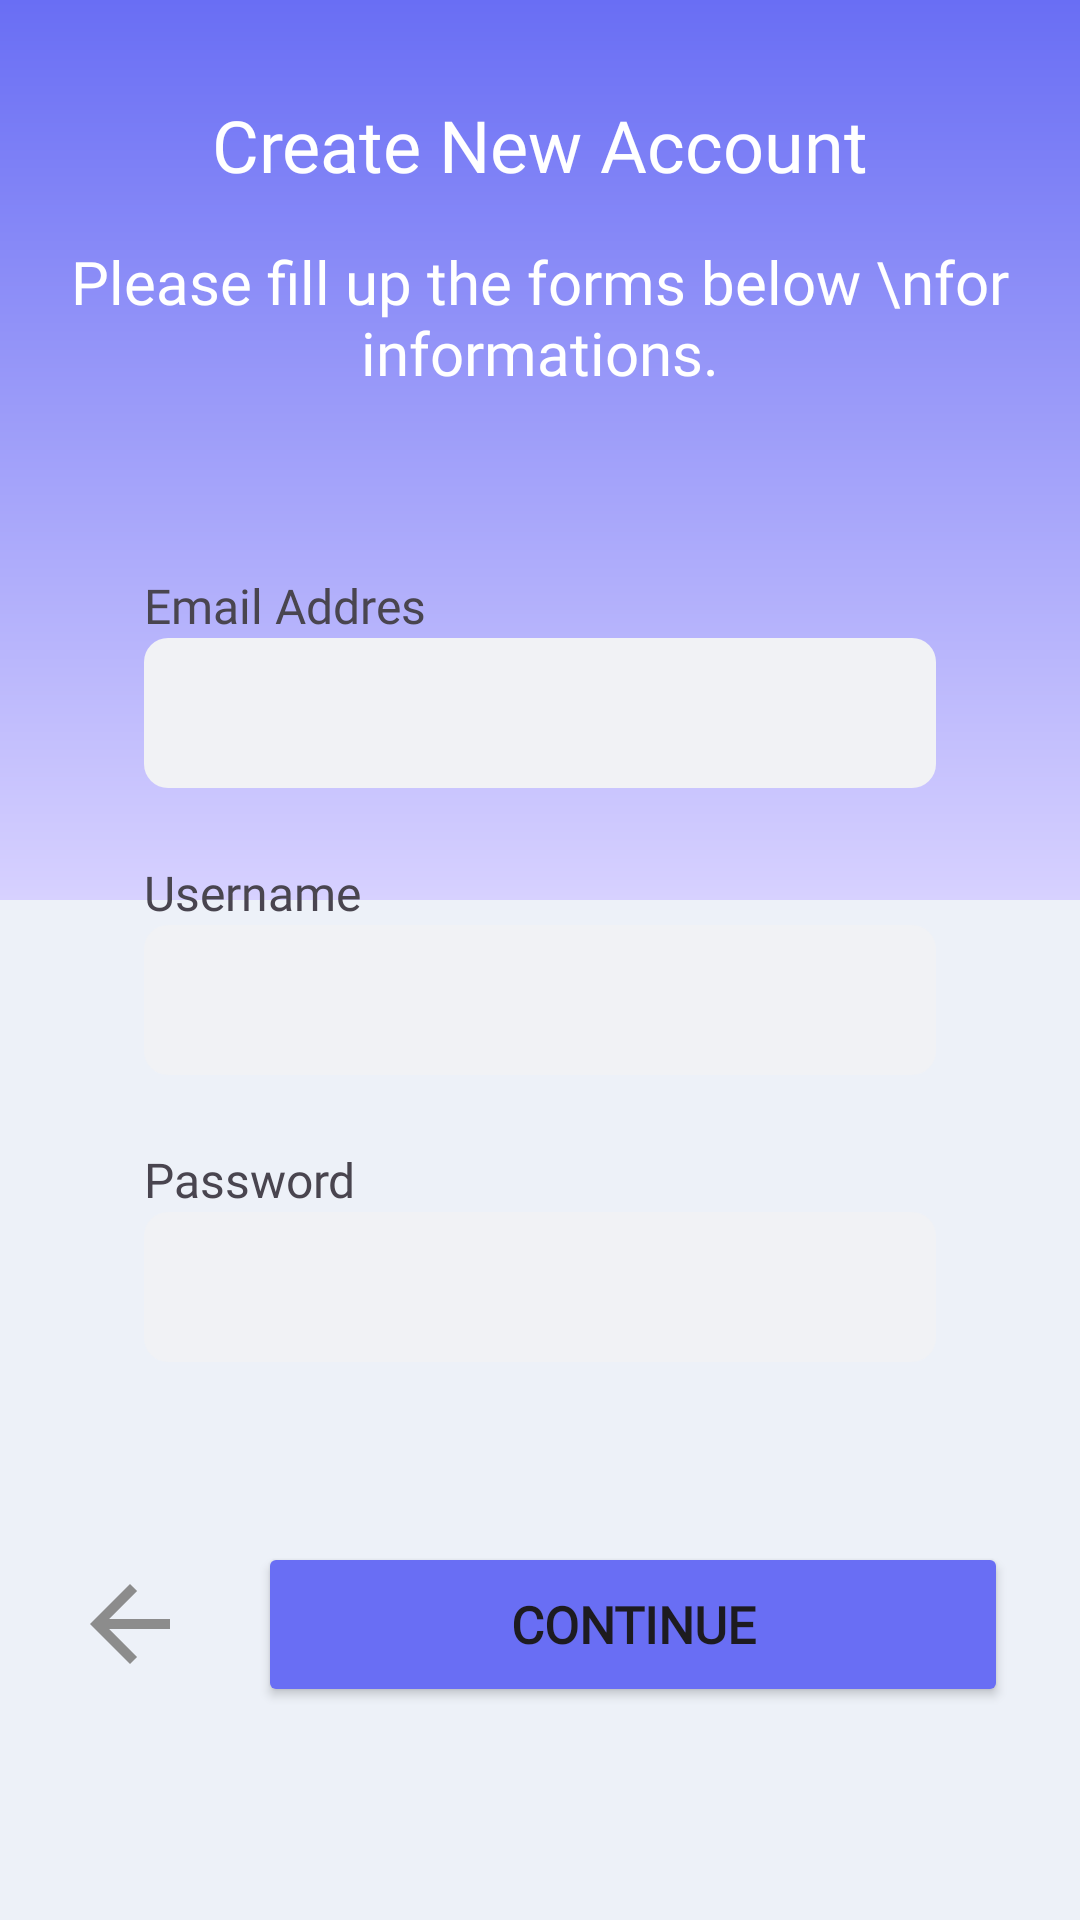

Screen size 1080x1920. Icon name, then its center in pixels as (x=x, y=y):
back: (x=130, y=1624)
